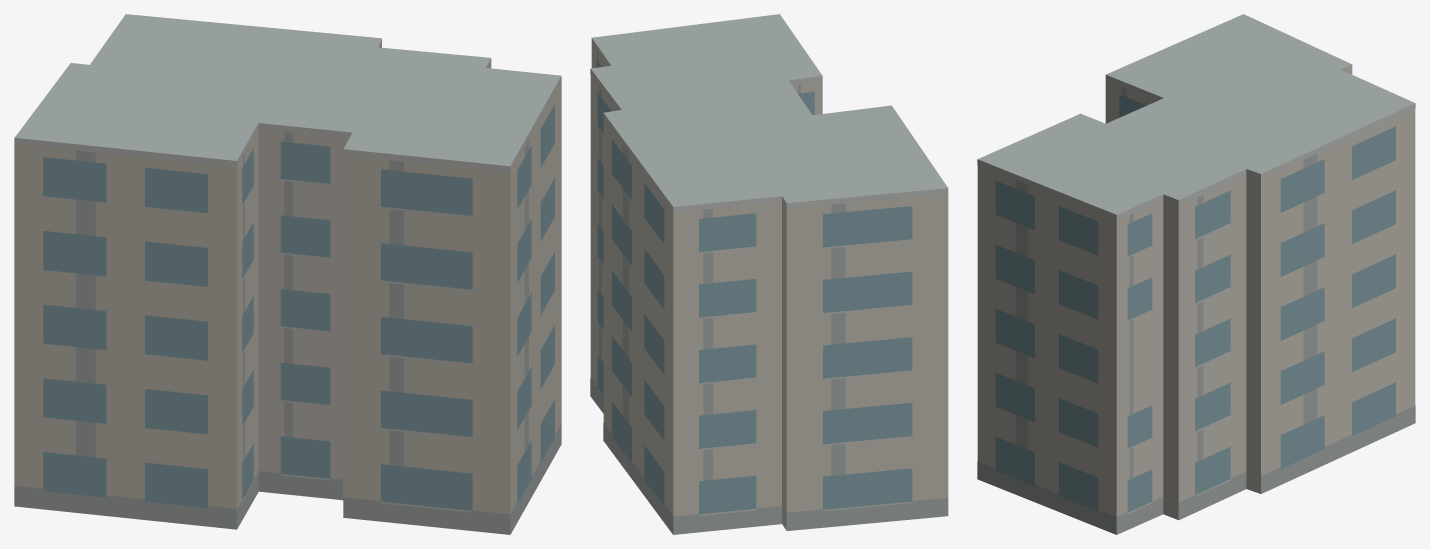
Rendered from survey-upis-32906955.glb.
3 views of the same model, side by side, from view 1: azimuth 30°, elevation 25°; view 2: azimuth 150°, elevation 25°; view 3: azimuth 270°, elevation 25° (orthographic). The views are drawn at different scales.
Parts seen in each view (by area): view 1: survey-upis-32906955.tmp; view 2: survey-upis-32906955.tmp; view 3: survey-upis-32906955.tmp.
Boxes of the visible parts, x1,y1,x2,y2 form: survey-upis-32906955.tmp: (14, 14, 561, 534); survey-upis-32906955.tmp: (590, 14, 948, 534); survey-upis-32906955.tmp: (977, 14, 1415, 534).
Bounding box in the file's own units: 19.25 × 14.3 × 17.74.
